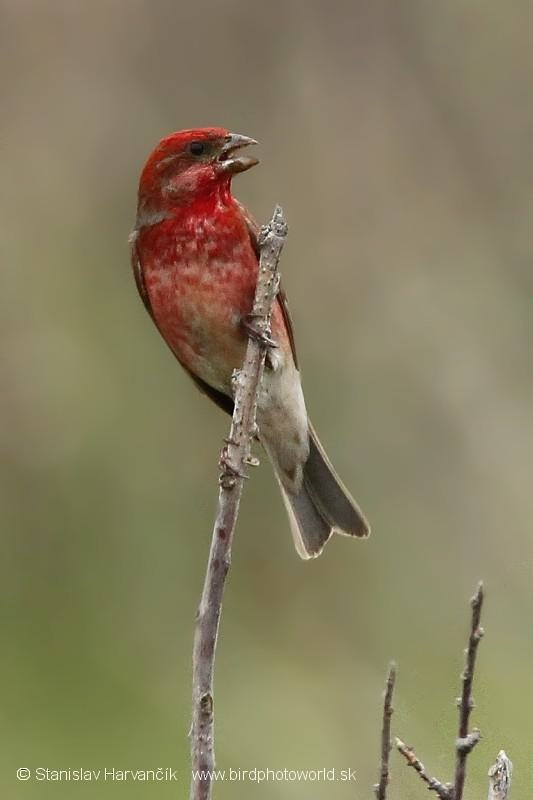rosefinch: (132, 67, 294, 594)
